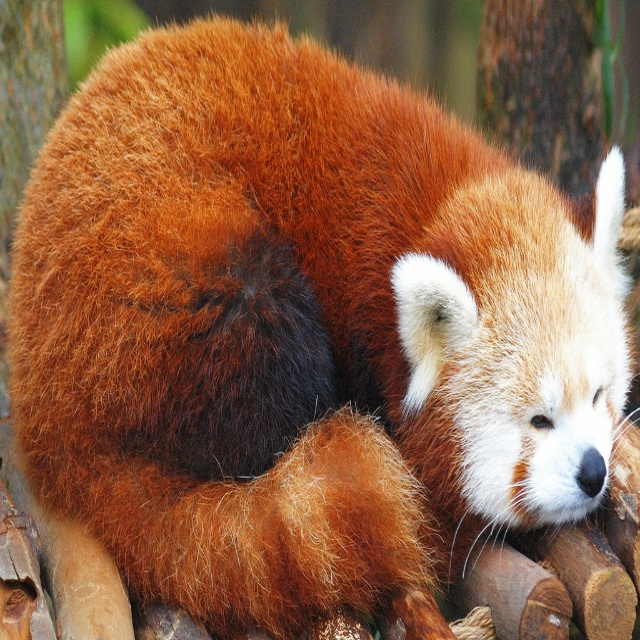Red panda: (0, 3, 640, 639)
